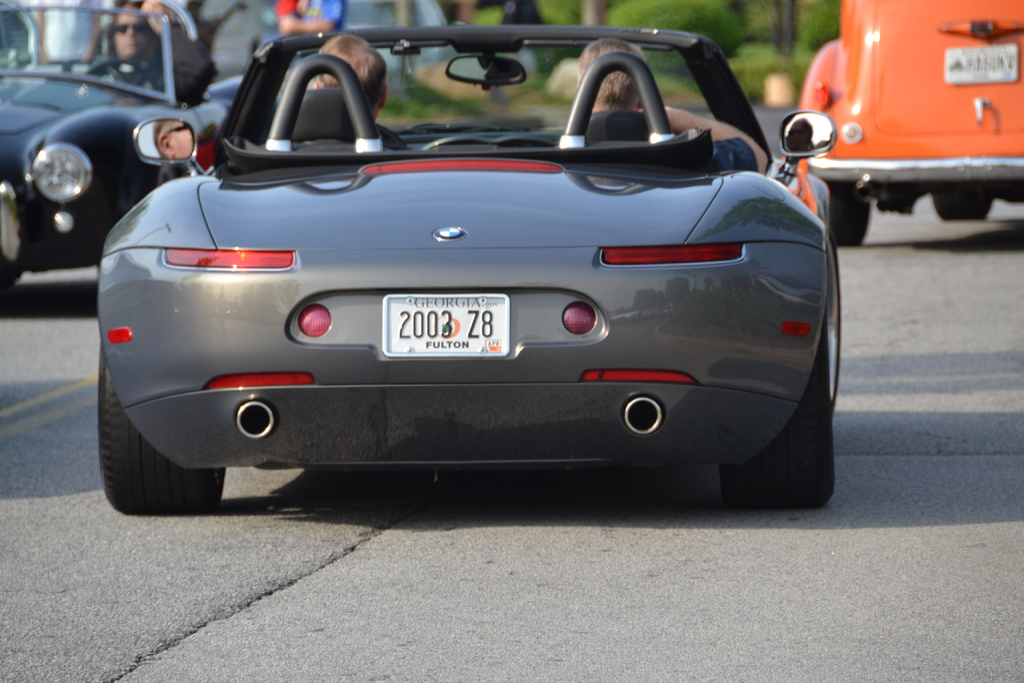Car: (94, 26, 837, 513), (0, 0, 229, 304), (796, 0, 1023, 249)
